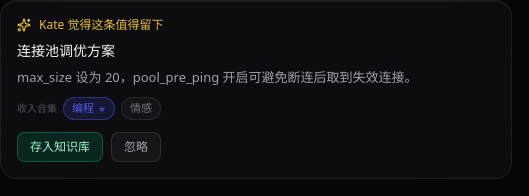
Test: SuggestCard 确认流 › 可增删建议合集后再保存
Click the button "情感": (141, 108) [121,97,161,120]
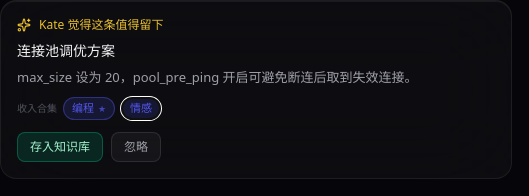
Click the button "存入知识库": (60, 146) [17,132,103,162]
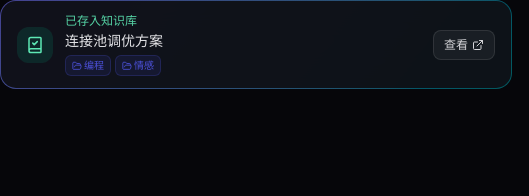
Expected: the text "已存入知识库" is shown, [65,13,137,29]
